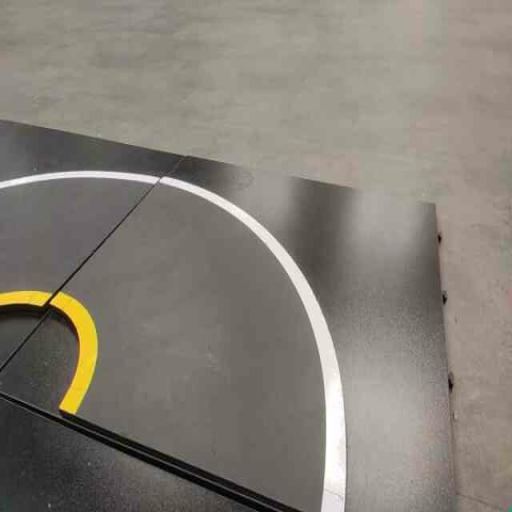left: (1, 164, 375, 511)
